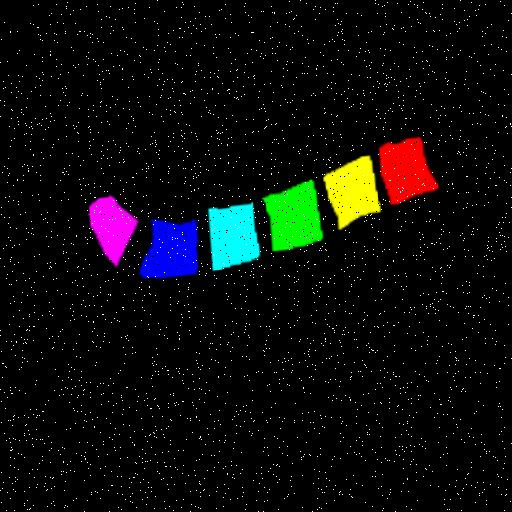L1: (379, 139, 438, 207)
L2: (325, 158, 379, 231)
L3: (265, 183, 322, 253)
L4: (208, 205, 257, 270)
L5: (142, 220, 196, 278)
S1: (89, 197, 138, 266)
